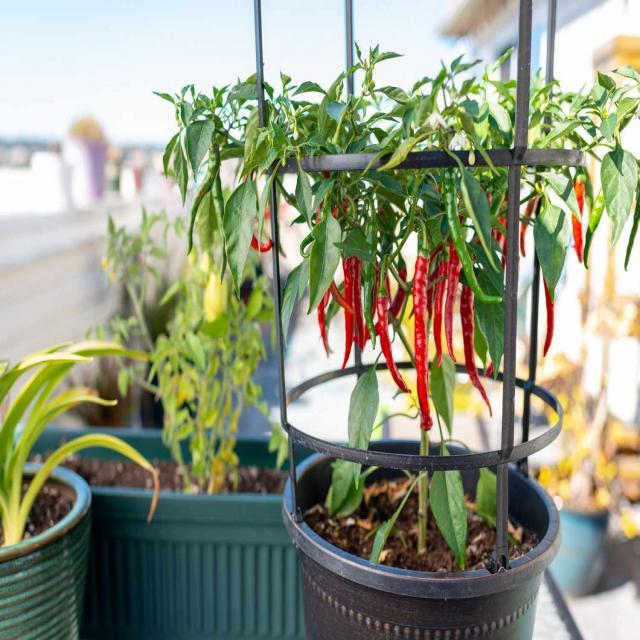chilli: (164, 47, 515, 456), (304, 460, 497, 571), (530, 75, 640, 232), (521, 164, 586, 345)
